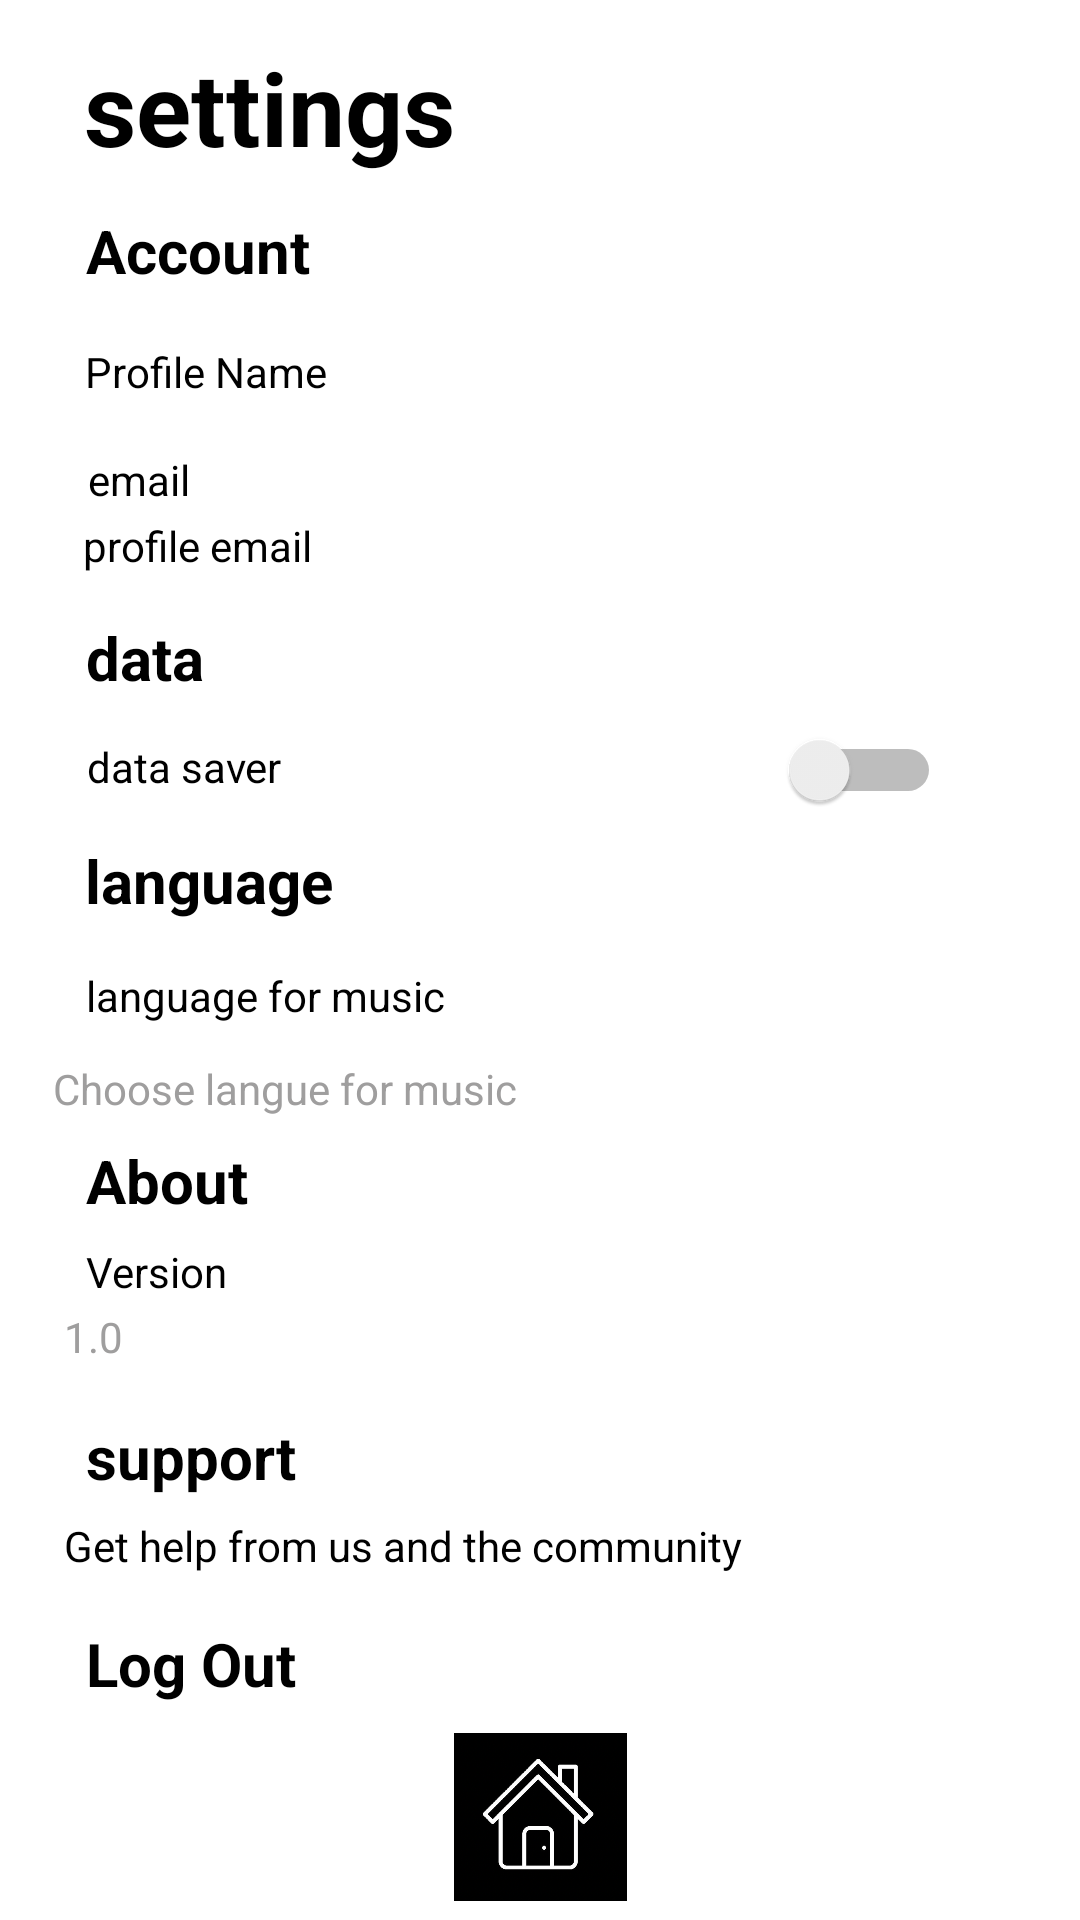

Screen size 1080*1920. Icon name, then its box in pixels as rect(x1, y1, x2, y2):
home: rect(454, 1733, 627, 1901)
